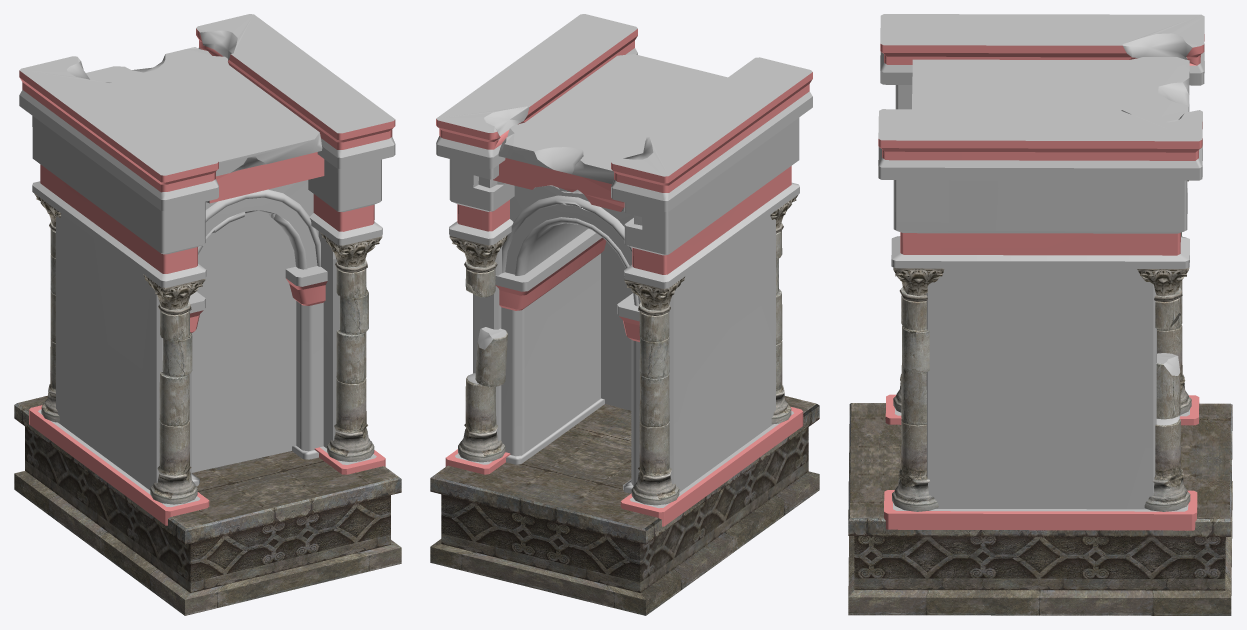
The model's file is Door1.fbx.
3 renders of one model, left to right at view 1: azimuth 30°, elevation 25°; view 2: azimuth 150°, elevation 25°; view 3: azimuth 270°, elevation 25°, orthographic. The views are drawn at different scales.
Parts seen in each view (by area): view 1: LV_Nigratruis_CastleArch_SM_SCY; view 2: LV_Nigratruis_CastleArch_SM_SCY; view 3: LV_Nigratruis_CastleArch_SM_SCY.
Part boxes in pixels (bbox=[...]): LV_Nigratruis_CastleArch_SM_SCY: bbox=[14, 14, 401, 615]; LV_Nigratruis_CastleArch_SM_SCY: bbox=[430, 14, 819, 615]; LV_Nigratruis_CastleArch_SM_SCY: bbox=[848, 14, 1232, 615].
Size of the model in its own units: 2.35 by 4.12 by 3.
